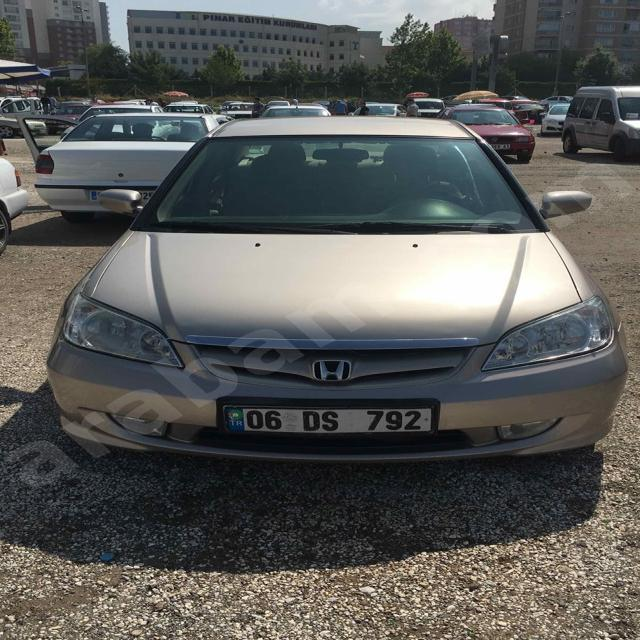license_plate: (223, 405, 432, 433)
